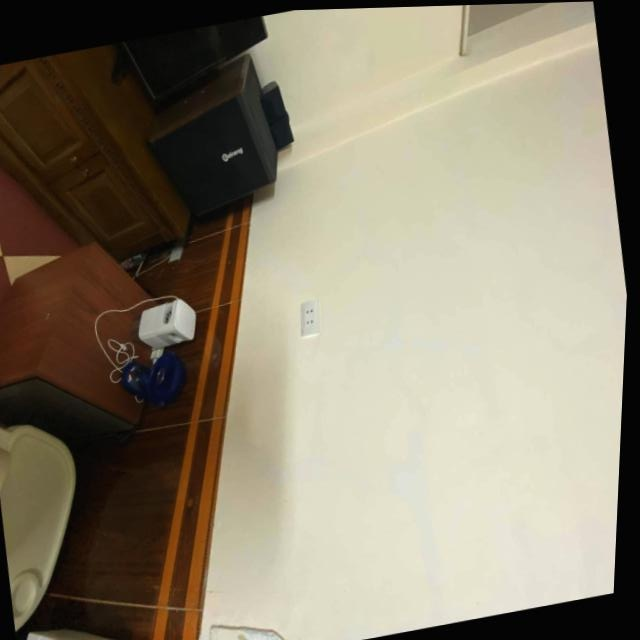outlet: (296, 298, 324, 339)
